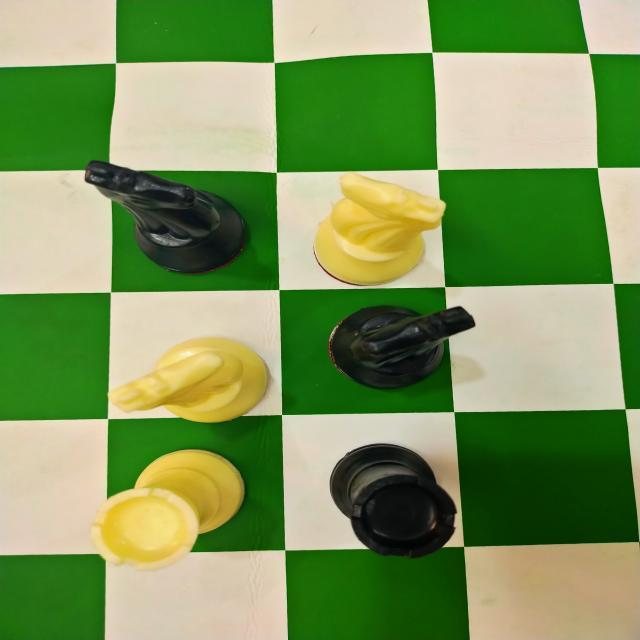black-knight: (83, 158, 252, 274), (328, 302, 477, 390)
black-rook: (326, 442, 460, 558)
white-knight: (312, 172, 447, 287), (108, 337, 271, 424)
white-rook: (89, 446, 251, 571)
